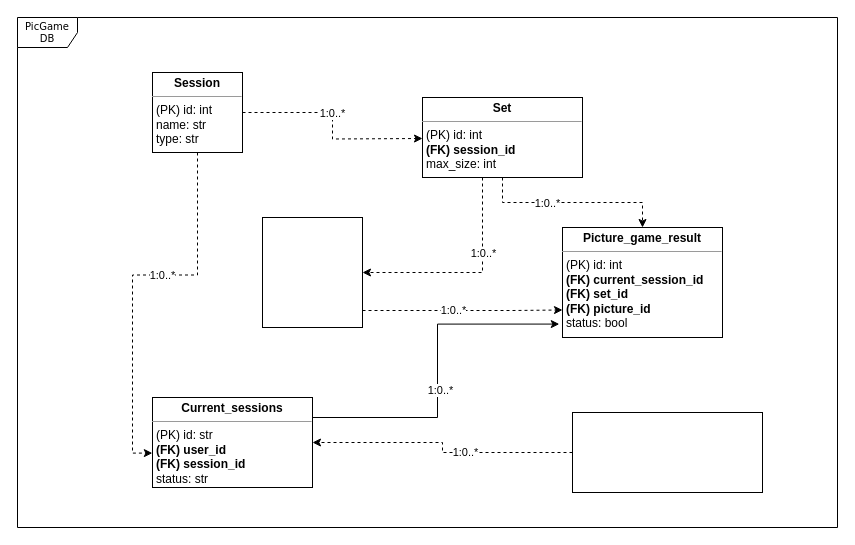
The diagram is 855 pixels wide and 545 high, and some of its shapes have lost their labels. Here are the shapes that lost their labels. From the top down, the centre of each, then its label:
At point 312,272: "Picture (PK) id: str (FK) set_id src: str pos: int word: str".
At point 667,452: "User (PK) id: int regisration_date: dateTime last_auth: dateTime".
